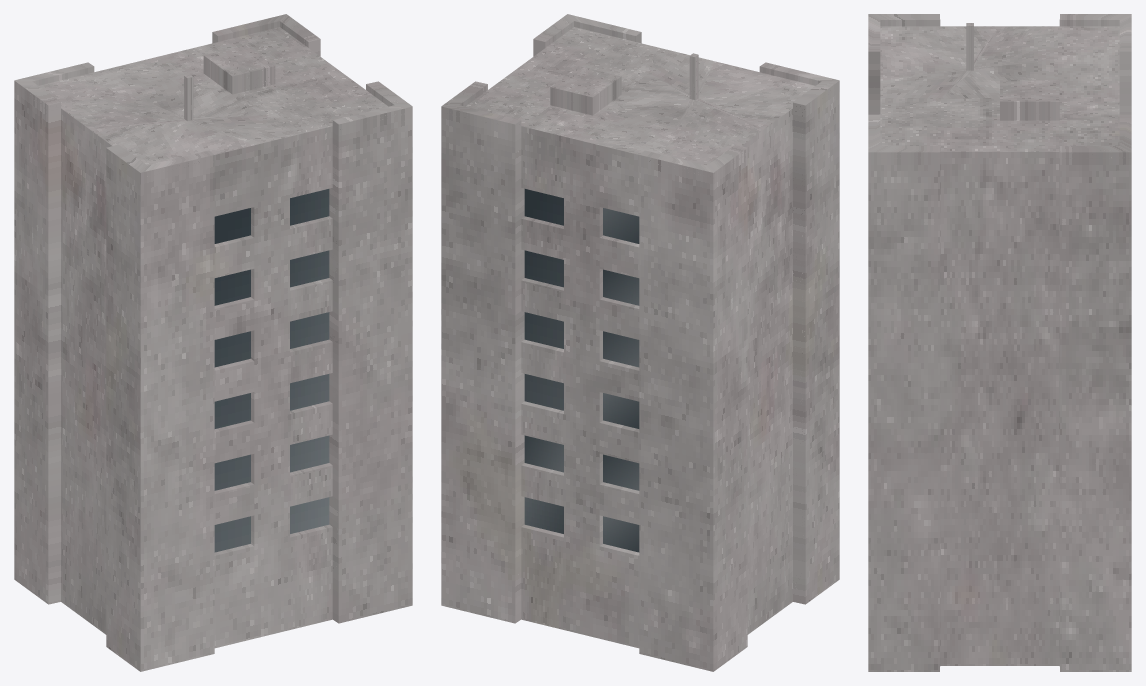
File: building1.glb
3 views of the same model, side by side, from view 1: azimuth 30°, elevation 25°; view 2: azimuth 150°, elevation 25°; view 3: azimuth 270°, elevation 25° (orthographic). The views are drawn at different scales.
Visible parts, largest first — view 1: Cube; view 2: Cube; view 3: Cube.
Part boxes in pixels (x1,y1,x2,y2): Cube: [14, 14, 412, 671]; Cube: [441, 14, 839, 671]; Cube: [868, 14, 1131, 671].
Size of the model in its own units: 57.41 by 108 by 46.15.
1 material, 1 textured.
